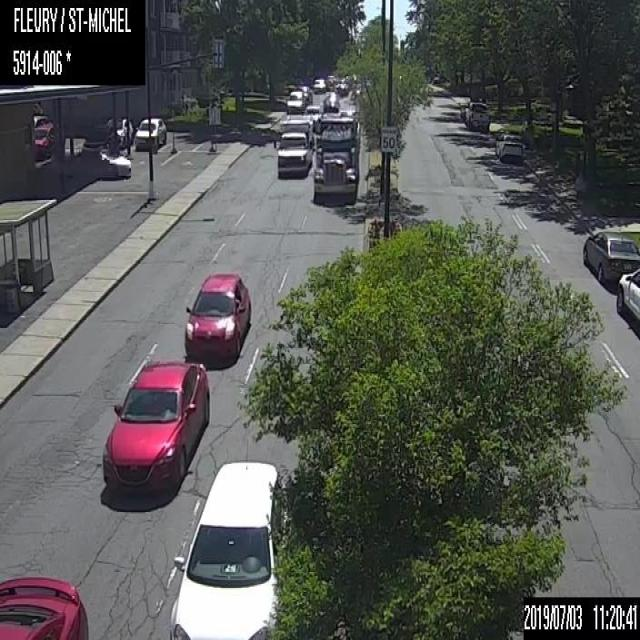vehicle: (168, 461, 286, 638), (101, 360, 209, 511), (183, 272, 250, 365), (0, 576, 88, 639), (310, 115, 359, 205), (581, 230, 639, 289), (272, 117, 312, 178), (615, 267, 639, 339), (134, 116, 166, 149), (32, 120, 58, 160), (494, 131, 522, 161), (107, 116, 133, 148), (464, 101, 489, 129), (286, 89, 306, 113), (322, 90, 339, 112), (297, 84, 312, 103), (313, 78, 326, 92), (0, 632, 2, 639)
